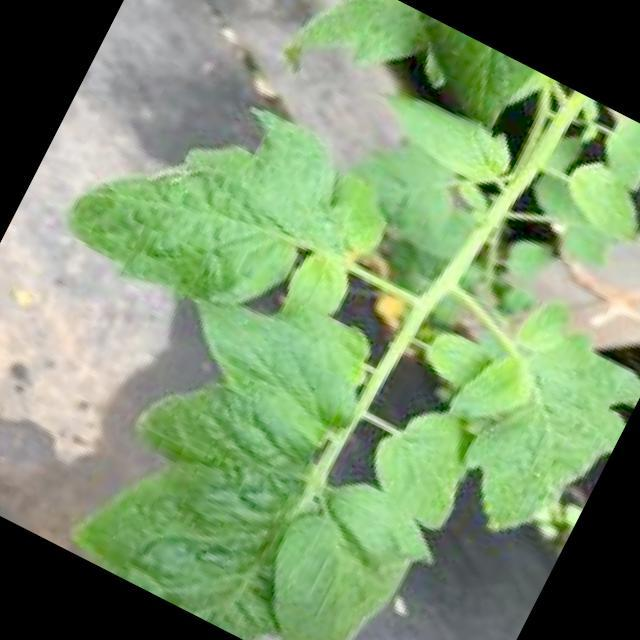Tomato healthy leaf: (67, 297, 427, 640), (65, 127, 387, 317), (451, 310, 640, 535), (371, 415, 471, 531), (387, 97, 507, 193)
